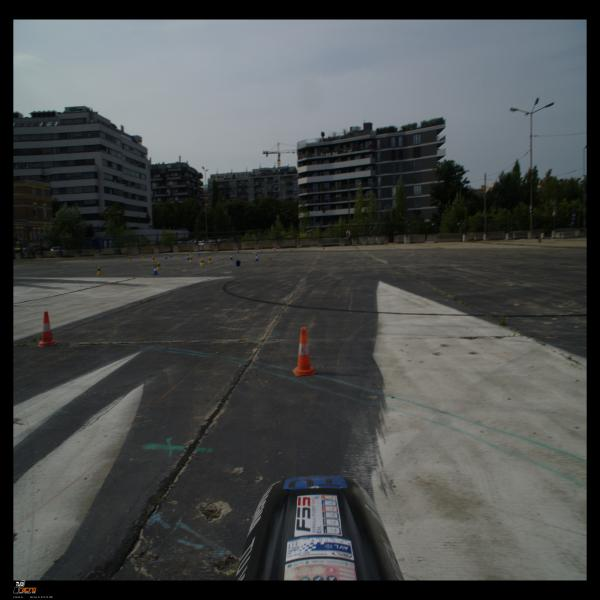blue_cone: (152, 265, 158, 275), (235, 260, 241, 266), (254, 254, 258, 262), (229, 253, 233, 260), (186, 254, 190, 260), (164, 254, 168, 259), (169, 252, 172, 258), (198, 251, 201, 256), (237, 248, 239, 254)
orange_cone: (292, 327, 316, 376), (37, 311, 57, 347), (260, 247, 262, 253), (273, 246, 275, 251)
yellow_cone: (96, 266, 102, 275), (200, 258, 205, 266), (207, 256, 212, 264), (157, 262, 161, 270), (151, 256, 155, 263), (189, 255, 193, 262), (128, 256, 132, 262), (189, 251, 192, 256), (142, 253, 144, 259), (236, 248, 238, 253)
